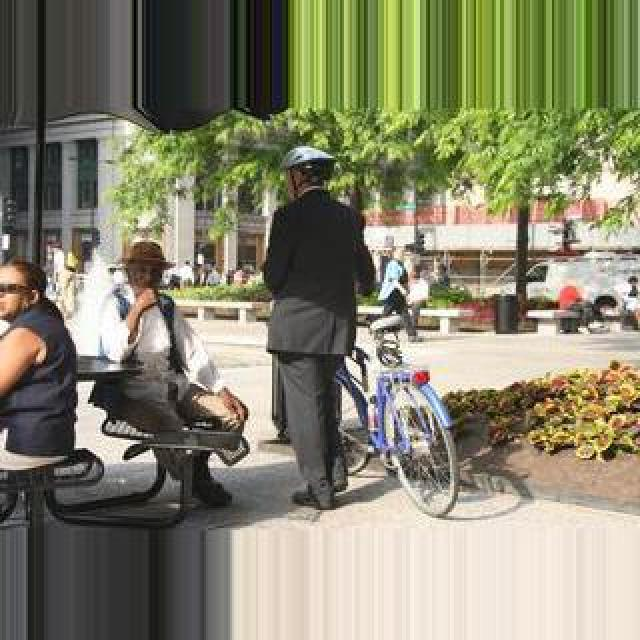MC-Bike: (104, 238, 248, 510), (260, 146, 366, 504), (0, 258, 82, 484)
Person: (336, 330, 462, 518)
Person-Bike: (498, 256, 636, 310)
